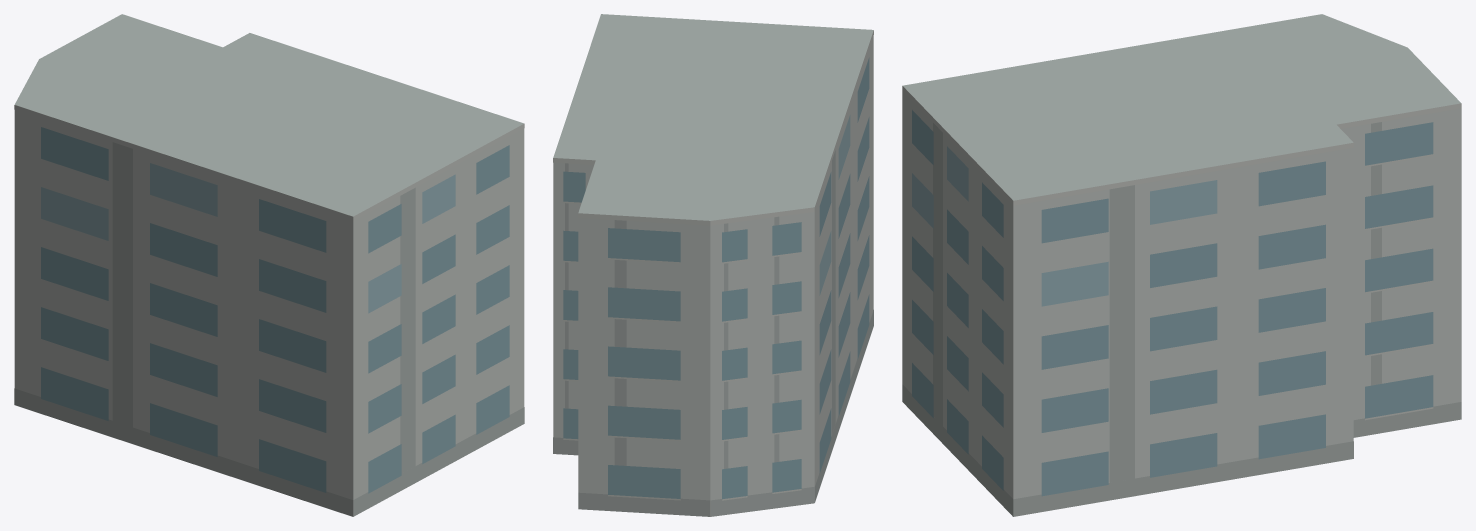
File: survey-upis-32997460.glb
The picture shows the model from 3 angles, left to right: view 1: azimuth 30°, elevation 25°; view 2: azimuth 150°, elevation 25°; view 3: azimuth 270°, elevation 25°; orthographic projection. The views are drawn at different scales.
Visible parts, largest first — view 1: survey-upis-32997460.tmp; view 2: survey-upis-32997460.tmp; view 3: survey-upis-32997460.tmp.
Part boxes in pixels (box(x1,y1,x2,y2)): survey-upis-32997460.tmp: box(14, 14, 524, 516); survey-upis-32997460.tmp: box(553, 14, 873, 516); survey-upis-32997460.tmp: box(902, 14, 1461, 516).
Size of the model in its own units: 19.32 by 15.25 by 24.45.
